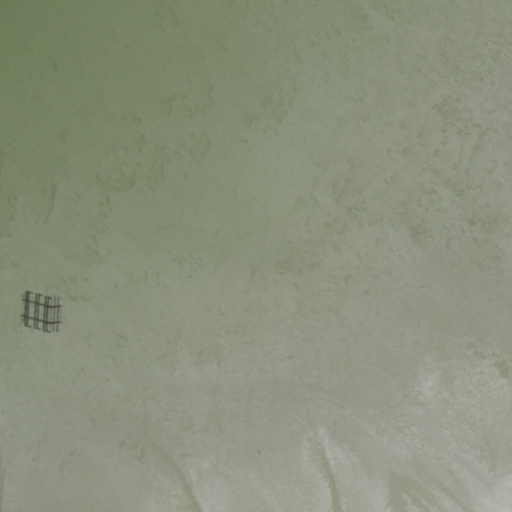TT: (45, 293, 66, 337)
